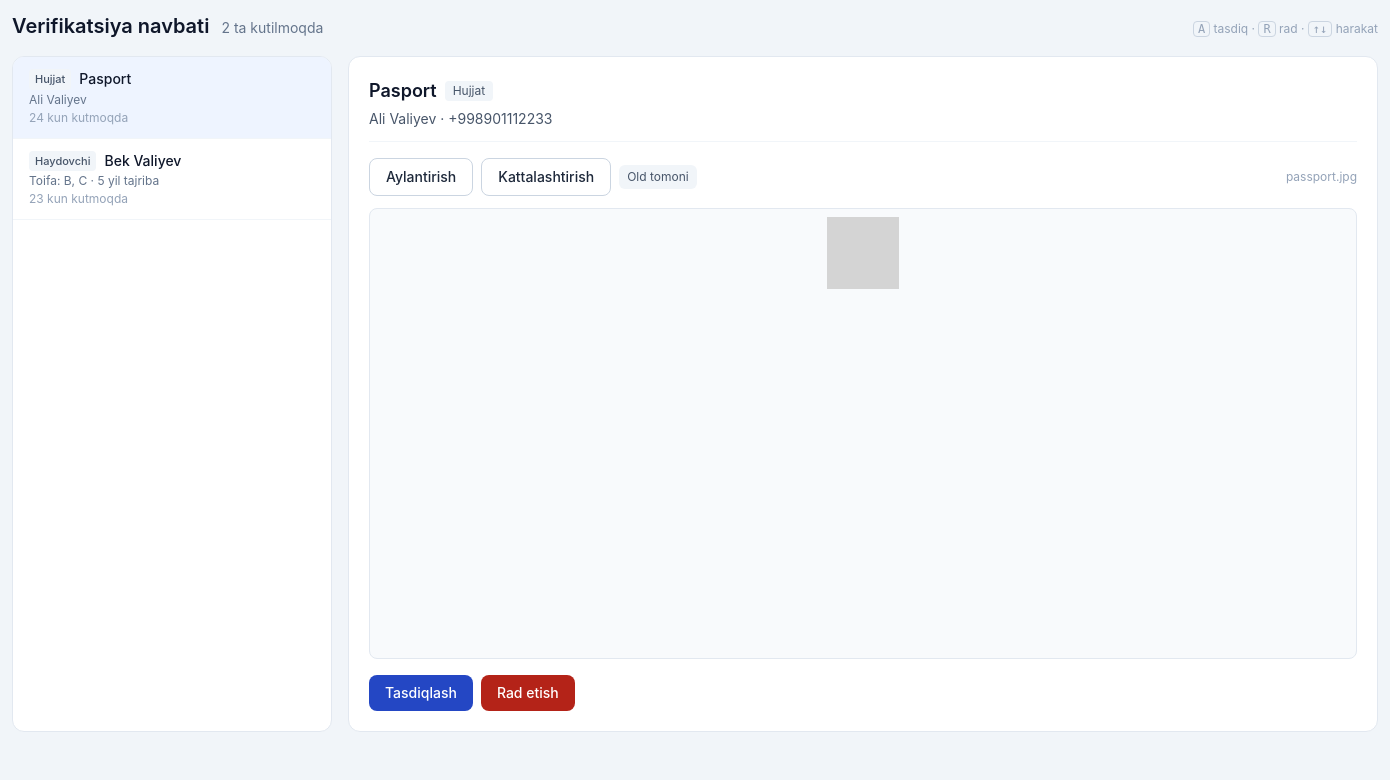
Test: VerificationsPage › ★ SABABSIZ RAD ETIB BOʻLMAYDI
Expected: the heading "Pasport" is shown, [369,77,437,105]
Step 1. Click the button "Rad etish" → (528, 693), box [481,675,575,711]
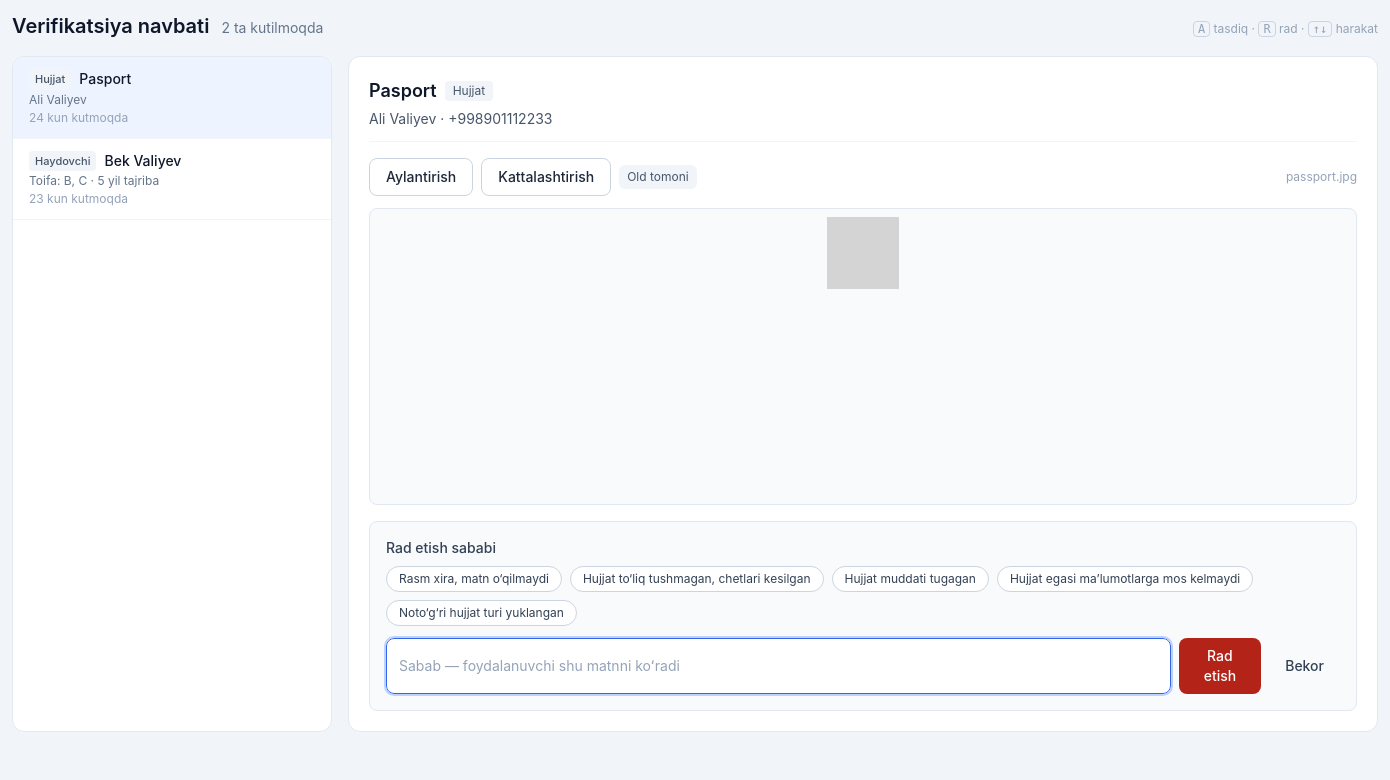
Step 2. Click the button "Rad etish" → (1220, 666), box [1179,638,1261,694]
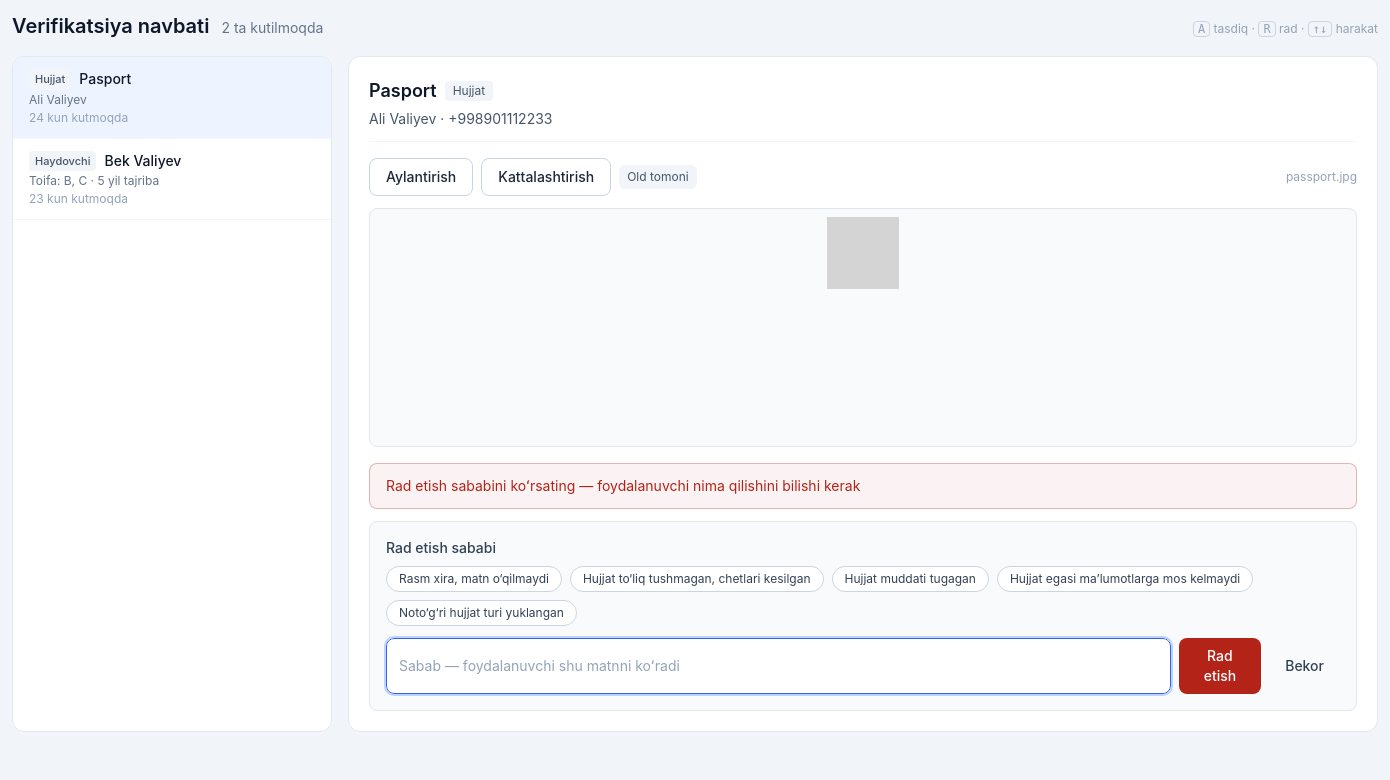
Expected: the message shows "sababini koʻrsating", [386,477,860,494]
